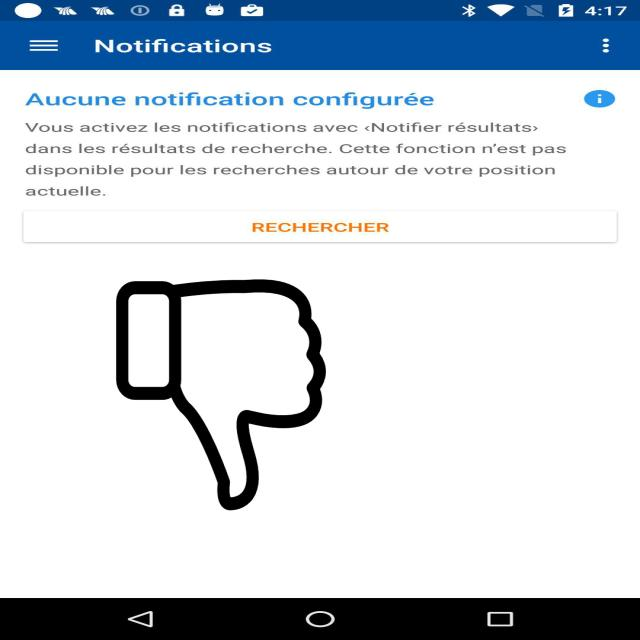obstruction: (113, 280, 329, 510)
